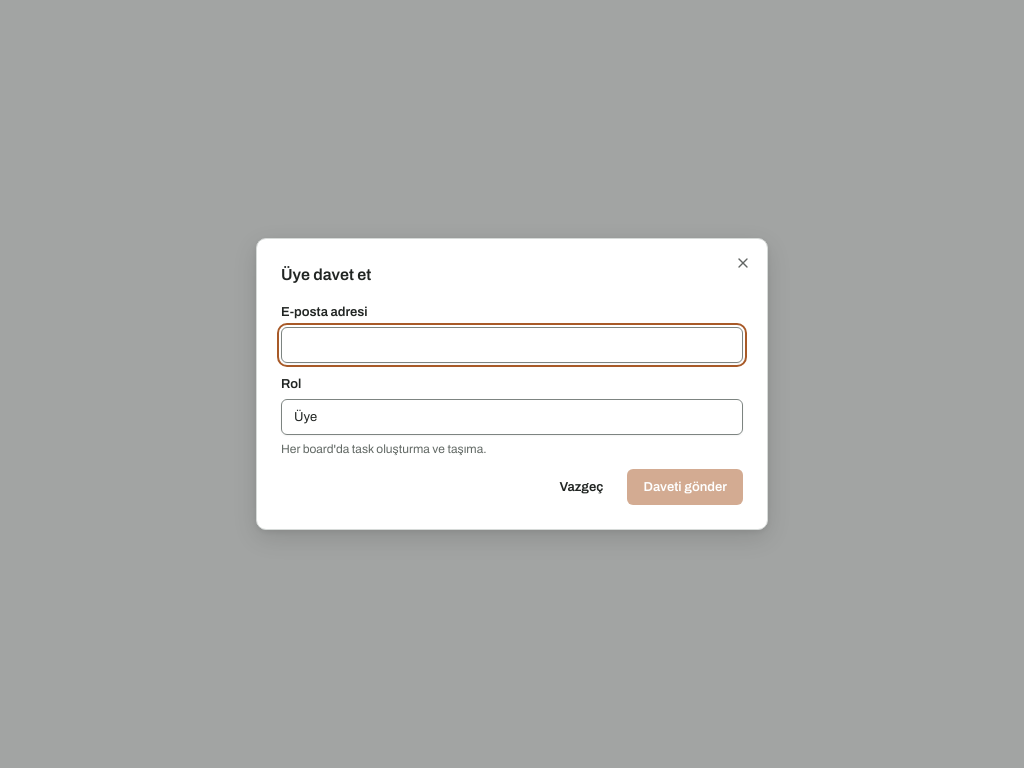
the fifty longest Turkish strings › are drawn in Turkish on components/settings/invite-member-dialog.tsx
The image size is (1024, 768).
Type "bora@example.com" into the field labelled "E-posta adresi" at (512, 345), box left=281, top=327, right=743, bottom=363
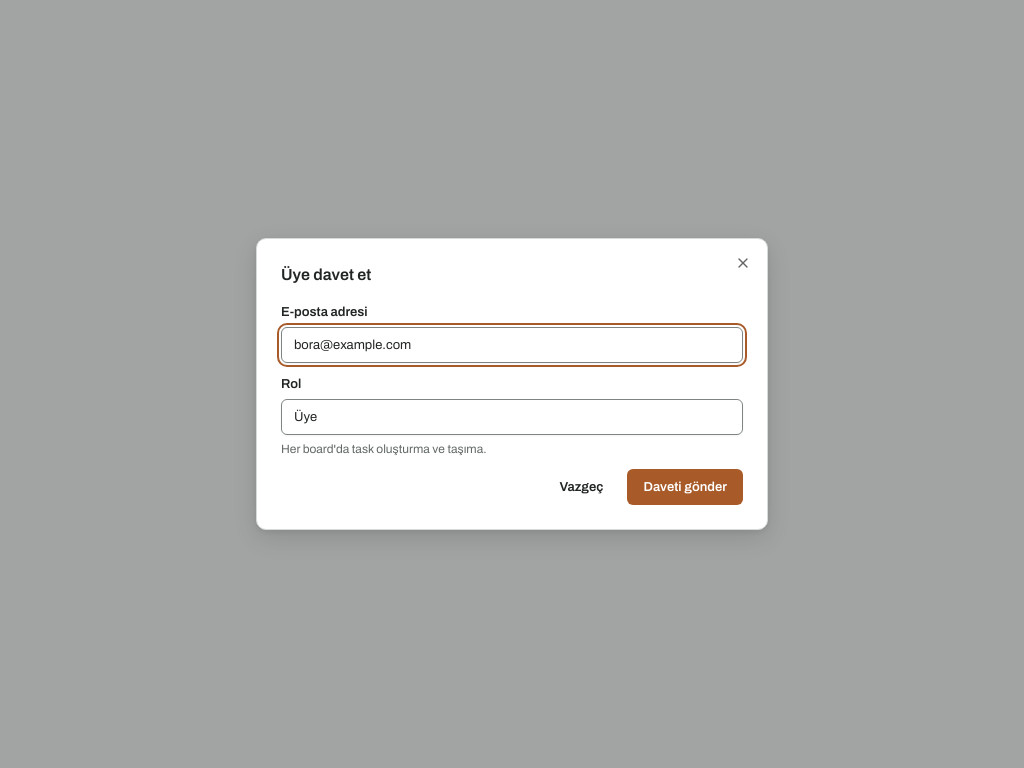
Click the button "Daveti gönder" at (685, 487), box left=627, top=469, right=743, bottom=505
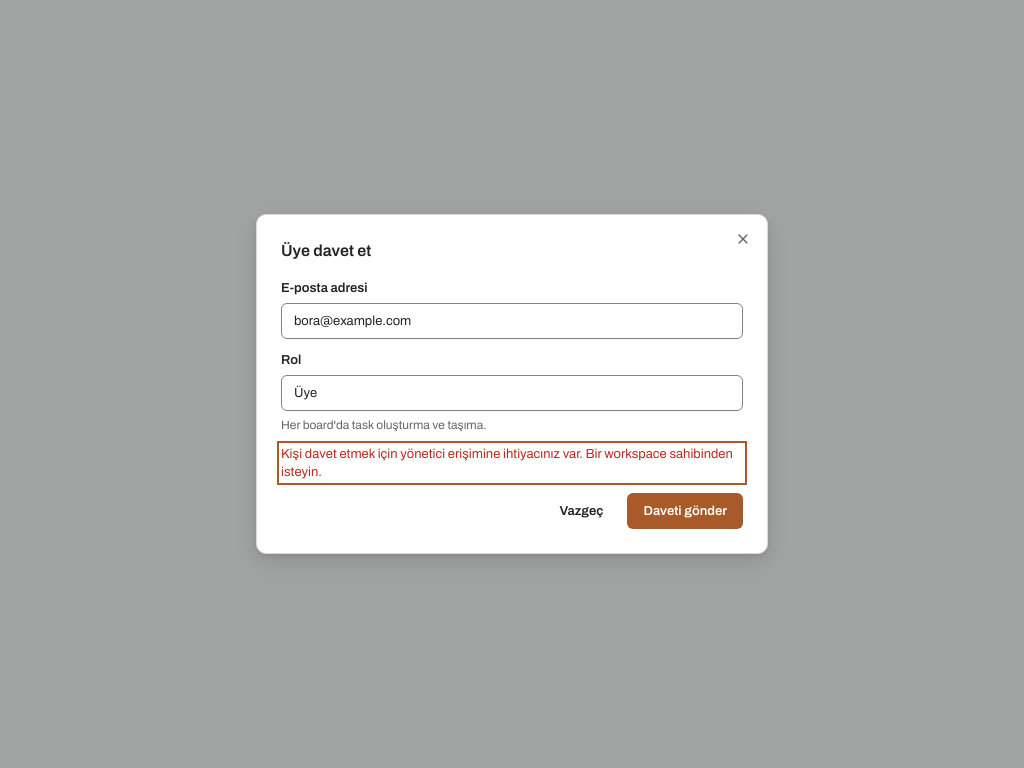
expect the text "Kişi davet etmek için yönetici erişimine ihtiyacınız var. Bir workspace sahibinden isteyin." is shown: met, box left=281, top=447, right=733, bottom=479
